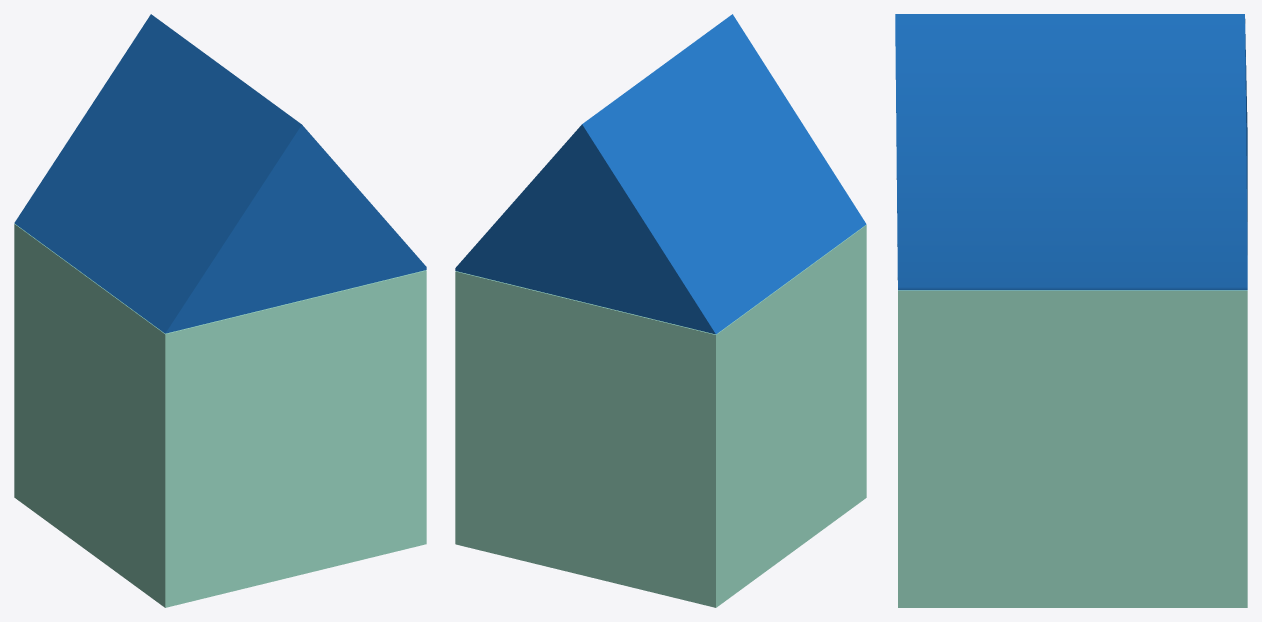
File: house.dae
3 renders of one model, left to right at view 1: azimuth 30°, elevation 25°; view 2: azimuth 150°, elevation 25°; view 3: azimuth 270°, elevation 25°, orthographic. The views are drawn at different scales.
Visible parts, largest first — view 1: Cube.1, Cube; view 2: Cube.1, Cube; view 3: Cube.1, Cube.
Part boxes in pixels (<box>): Cube.1: <box>14,223,426,607</box>; Cube: <box>14,14,426,333</box>; Cube.1: <box>455,225,866,607</box>; Cube: <box>455,14,866,334</box>; Cube.1: <box>898,290,1247,607</box>; Cube: <box>895,14,1247,290</box>.
Bounding box in the file's own units: 200 × 330 × 202.
